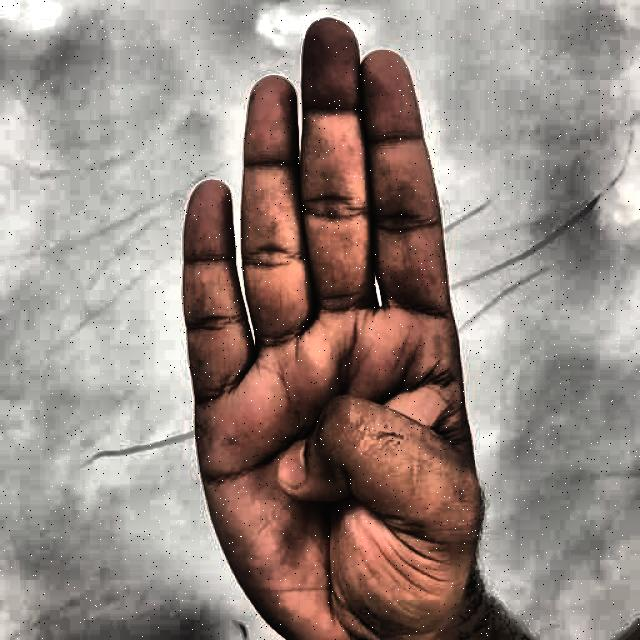Ba: (155, 11, 507, 639)
